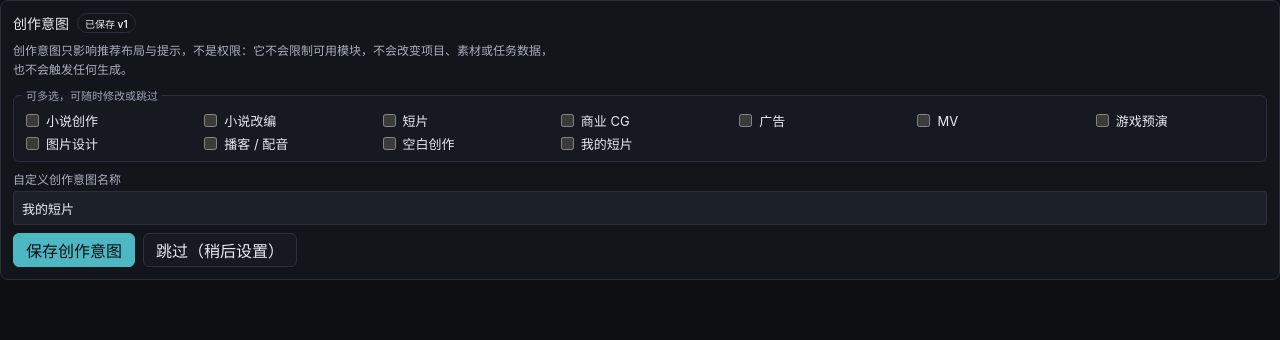
creative intent picker › offers a first-class skip that writes no preference
Expected: the text "已保存 v1" is shown, [77,13,136,33]
Click the checkbox labelled "小说创作".
click(32, 121)  # box [26,114,39,127]
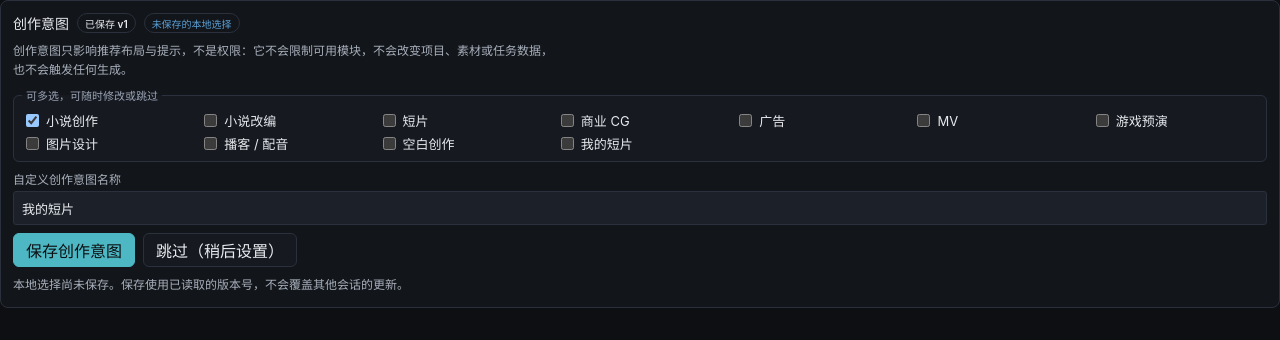
Click the button "跳过（稍后设置）".
click(220, 250)  # box [143,233,297,267]
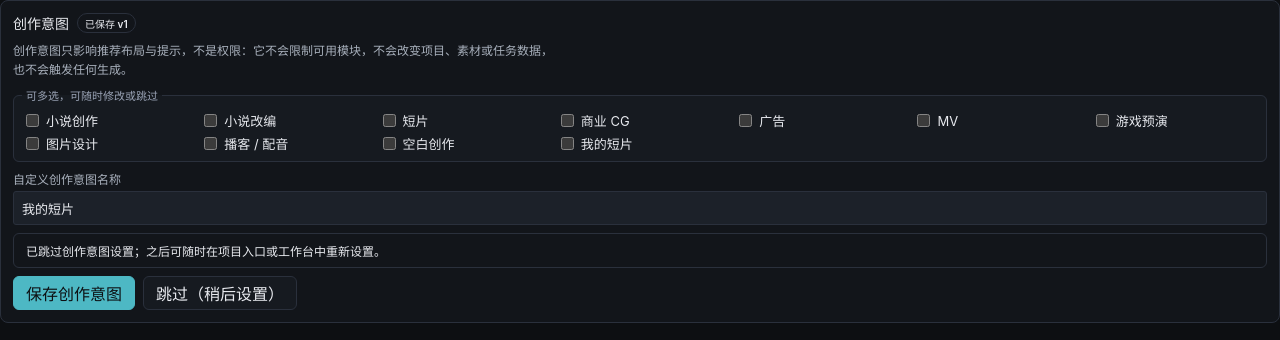
Result: the checkbox labelled "小说创作" is not checked at [26,114,39,127]
Result: the text "已跳过创作意图设置；之后可随时在项目入口或工作台中重新设置。" is shown at [13,233,1267,268]
